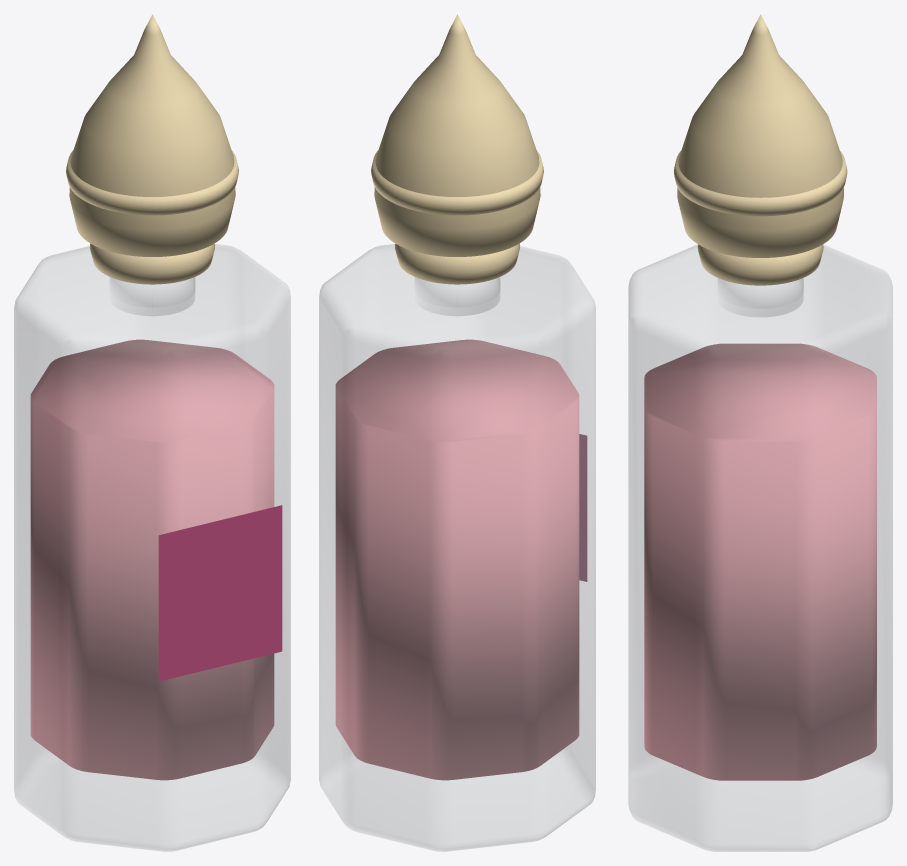
Rendered from majlis.glb.
3 views of the same model, side by side, from view 1: azimuth 30°, elevation 25°; view 2: azimuth 150°, elevation 25°; view 3: azimuth 270°, elevation 25° (orthographic).
Parts seen in each view (by area): view 1: Glass, Liquid, Cap, Label, CapTrim, Collar, Neck; view 2: Glass, Liquid, Cap, CapTrim, Collar, Neck, Label; view 3: Glass, Liquid, Cap, CapTrim, Collar, Neck.
Part boxes in pixels (box(x1,y1,x2,y2)): Glass: box(14, 244, 290, 851); Liquid: box(30, 339, 274, 780); Cap: box(69, 14, 235, 256); Label: box(158, 505, 282, 681); CapTrim: box(66, 150, 238, 215); Collar: box(90, 243, 214, 284); Neck: box(110, 277, 194, 315); Glass: box(319, 244, 595, 851); Liquid: box(335, 339, 579, 780); Cap: box(374, 14, 540, 256); CapTrim: box(371, 150, 543, 215); Collar: box(395, 243, 519, 284); Neck: box(415, 277, 499, 315); Label: box(579, 434, 587, 581); Glass: box(628, 244, 892, 851); Liquid: box(644, 343, 876, 780); Cap: box(677, 14, 843, 257); CapTrim: box(674, 151, 847, 216); Collar: box(697, 244, 823, 285); Neck: box(718, 278, 803, 316).
Size of the model in its own units: 0.0554 by 0.182 by 0.0563.
